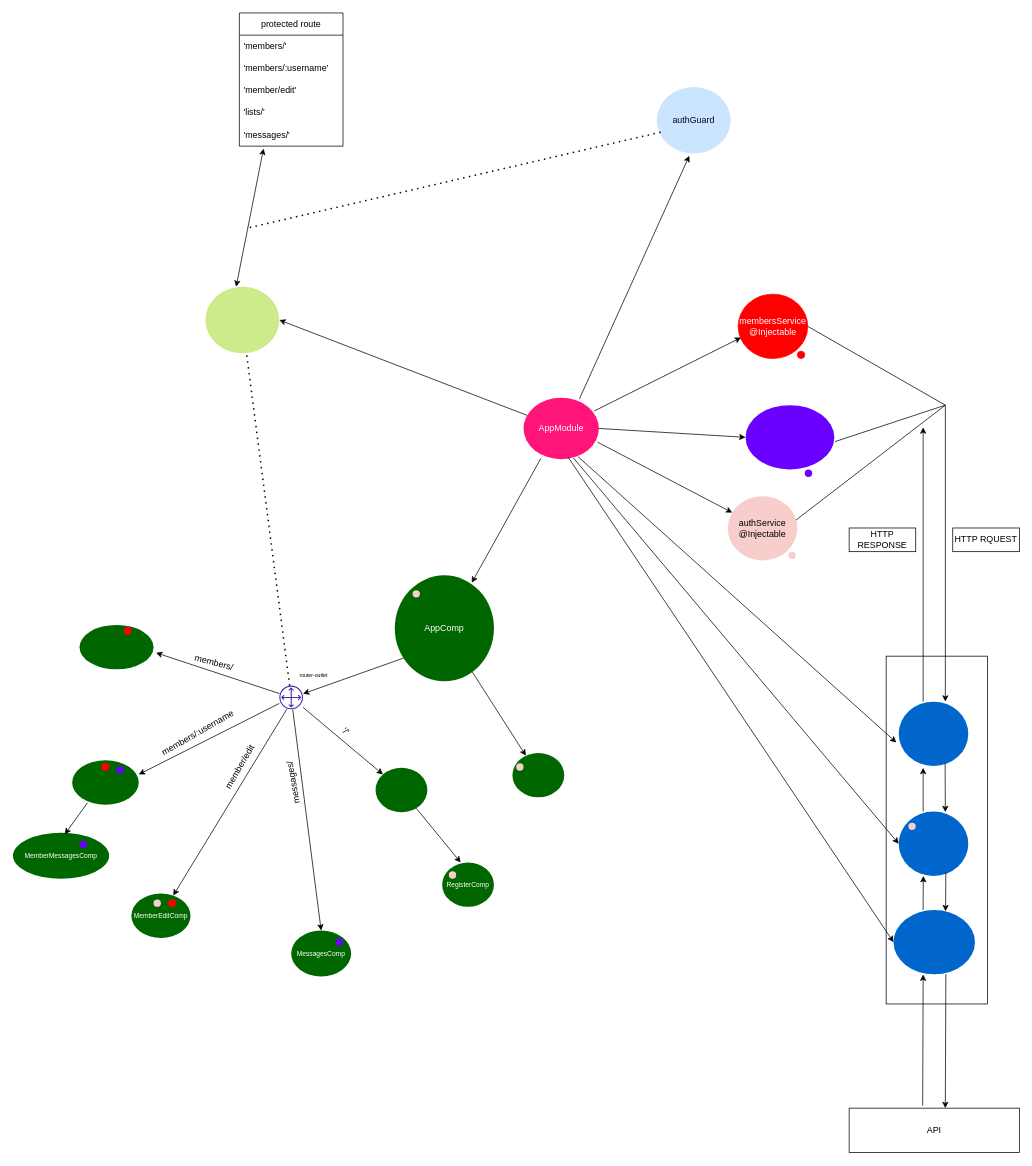
Some shapes in this 1032 by 1166 pixel diagram are drawn without their labels. The shapes that lost their labels are listed below. From the top down, each one's centre as x and y in pixels, then its label:
At (242,319): "AppRouting".
At (789,437): "messagesService @Injectable".
At (116,647): "MembersListComp".
At (933,733): "ErrorInterceptor @Injectable".
At (105,782): "MemberDetailComp".
At (401,789): "HomeComp".
At (538,775): "NavbarComp".
At (933,843): "JwtInterceptor @Injectable".
At (934,942): "LoadingInterceptor @Injectable".
